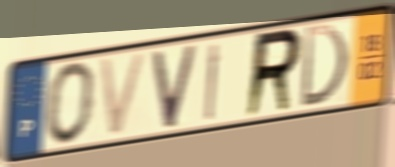D: (297, 22, 351, 111)
I: (203, 40, 223, 124)
O: (44, 59, 98, 147)
R: (242, 25, 305, 122)
V: (96, 48, 151, 141), (150, 41, 200, 132)
